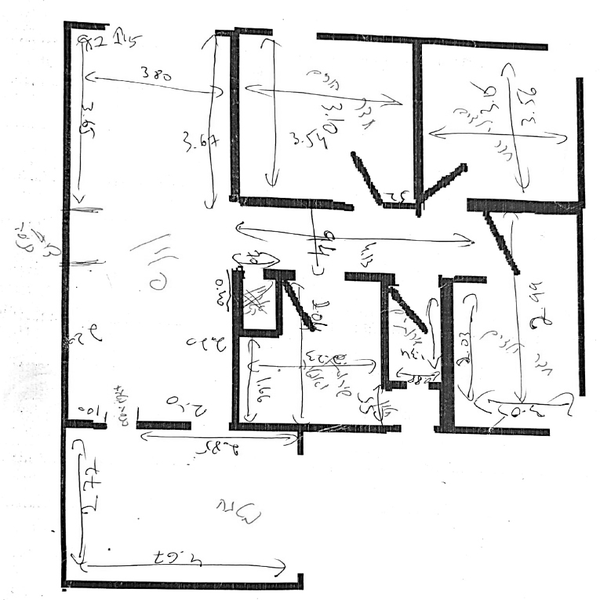wall: (324, 27, 552, 58), (58, 25, 70, 591), (575, 70, 591, 384), (64, 574, 307, 592), (407, 40, 431, 208), (468, 189, 579, 224), (438, 278, 461, 423), (238, 418, 401, 438), (375, 251, 397, 398), (225, 271, 244, 434), (227, 20, 243, 199), (435, 415, 552, 438), (239, 190, 340, 214), (340, 267, 400, 292), (270, 273, 292, 339), (135, 413, 197, 431), (240, 322, 277, 345), (64, 18, 111, 35)
